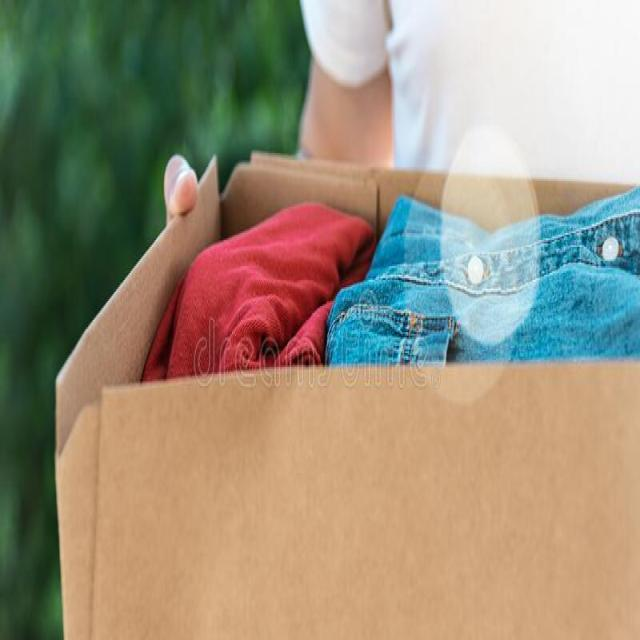clothes: (221, 219, 632, 369)
